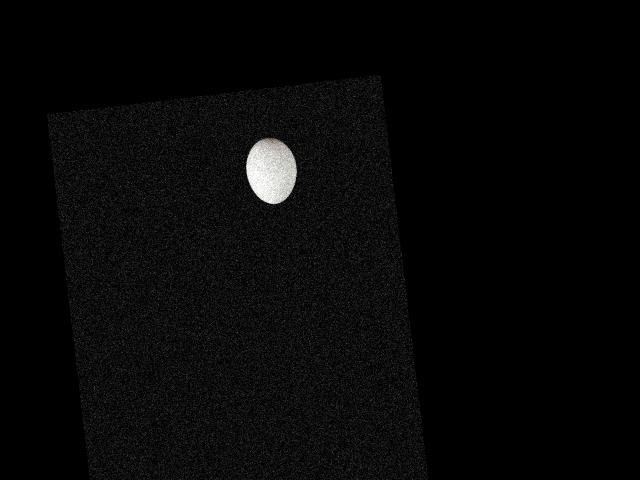egg: (242, 134, 300, 206)
